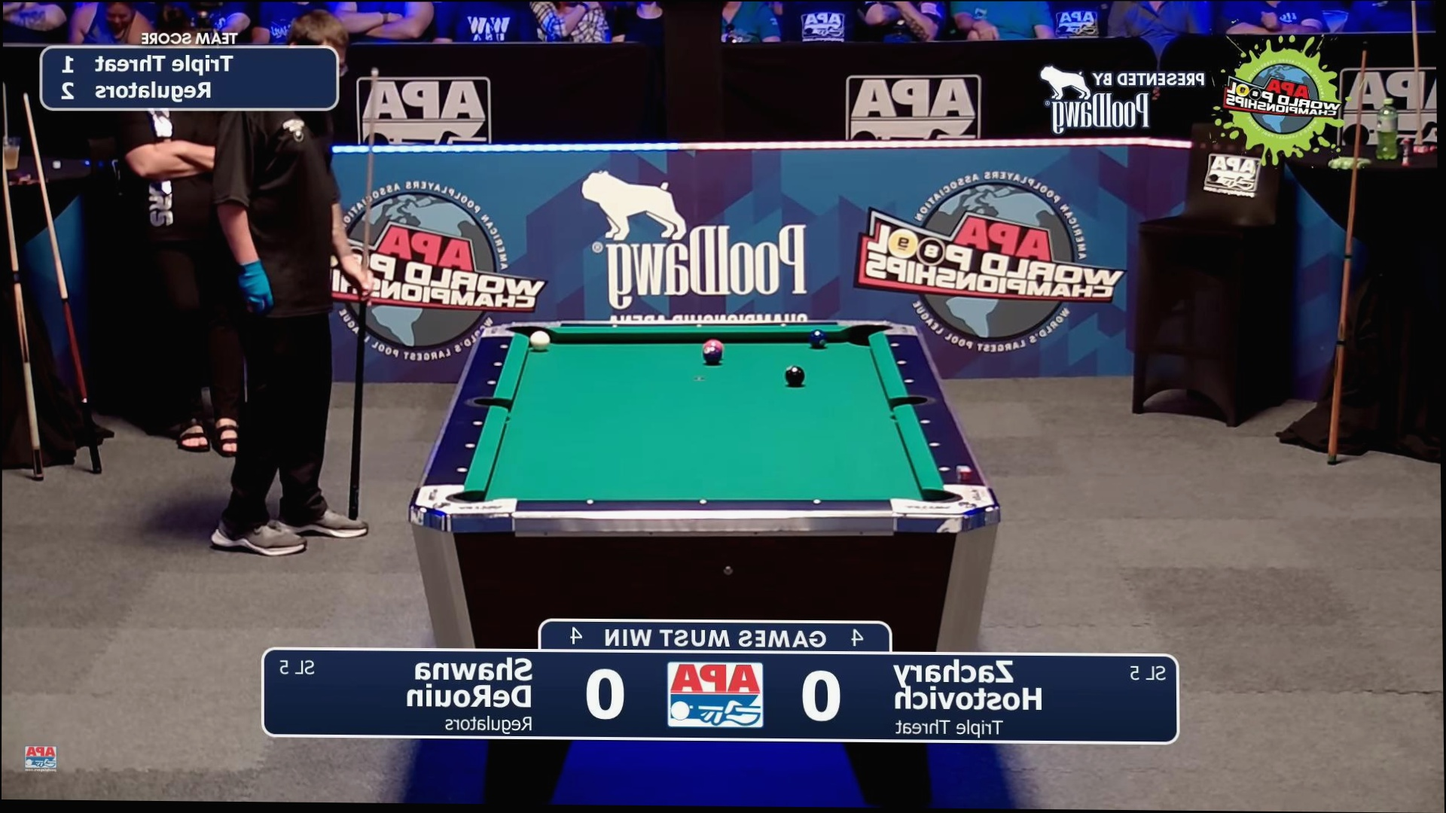Black: (919, 417, 930, 425), (778, 321, 789, 329), (487, 379, 498, 387), (698, 498, 709, 506), (939, 465, 949, 473), (896, 358, 906, 366), (610, 322, 620, 330), (499, 342, 509, 350), (585, 498, 595, 506), (928, 441, 939, 448), (889, 342, 900, 349), (472, 420, 483, 427), (457, 466, 468, 473), (904, 377, 914, 384), (694, 322, 704, 329), (494, 361, 504, 368), (465, 443, 475, 450), (812, 498, 822, 505)
Cue: (808, 329, 827, 348), (703, 346, 721, 365), (702, 339, 723, 352)
Solid: (784, 365, 805, 386)
Stripe: (529, 331, 550, 351)
